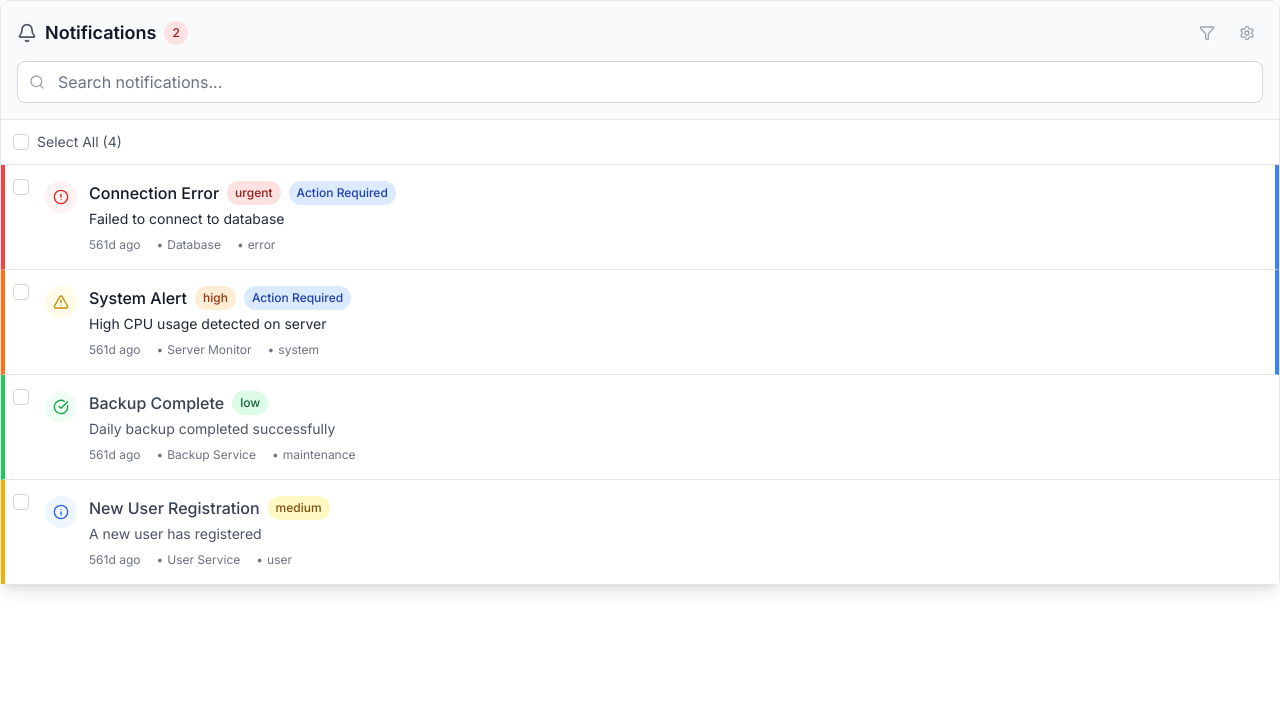
it: NotificationPanel Component › Search Functionality › searches in notification messages
The image size is (1280, 720).
In the field with placeholder "Search notifications...": (640, 82) [17,61,1263,103], type "CPU usage"
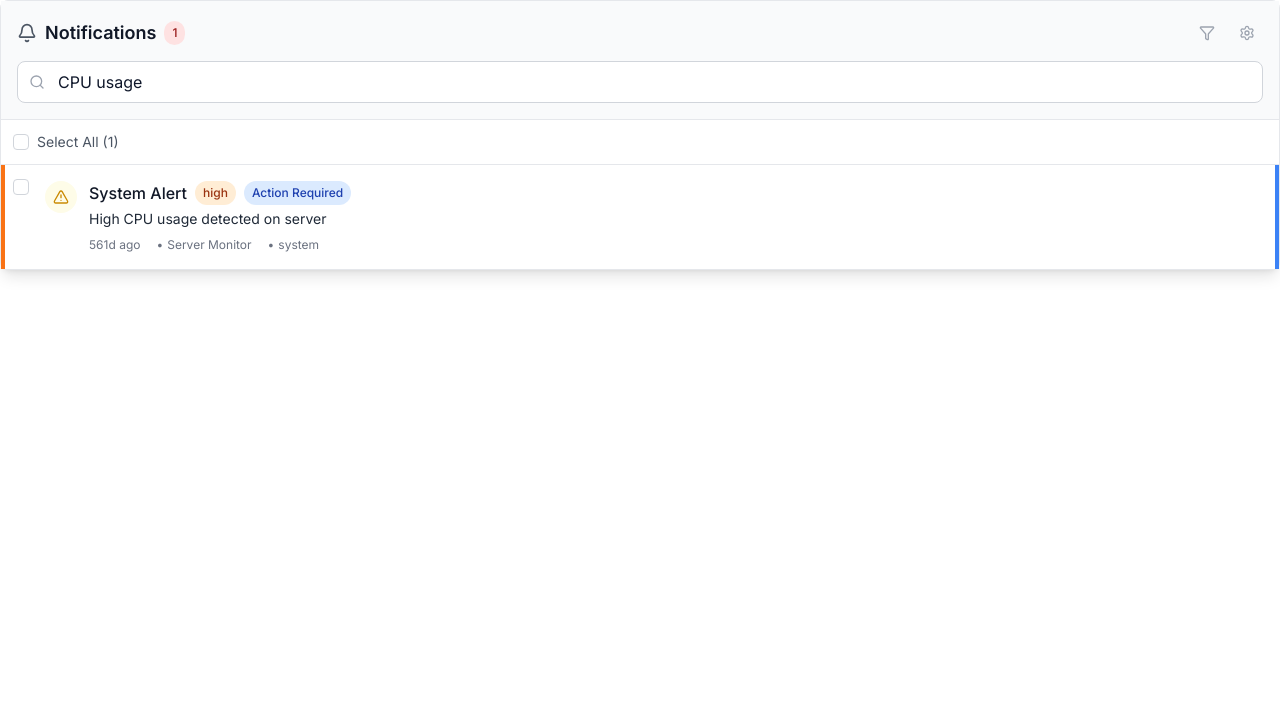
Expected: the heading "System Alert" is shown, [89,181,187,205]
Result: the heading "Backup Complete" is gone
